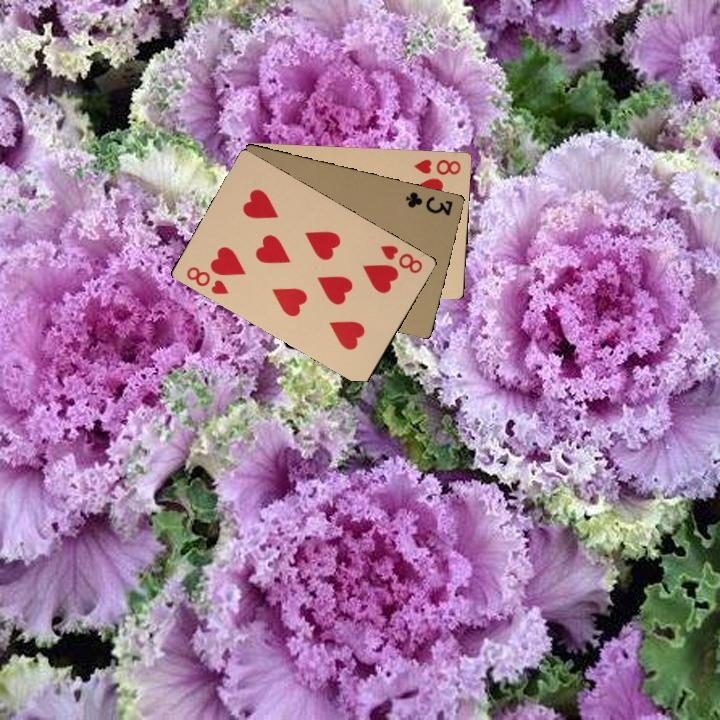3c: (402, 188, 455, 218)
8h: (376, 241, 425, 276), (182, 262, 231, 297), (410, 155, 463, 177)
